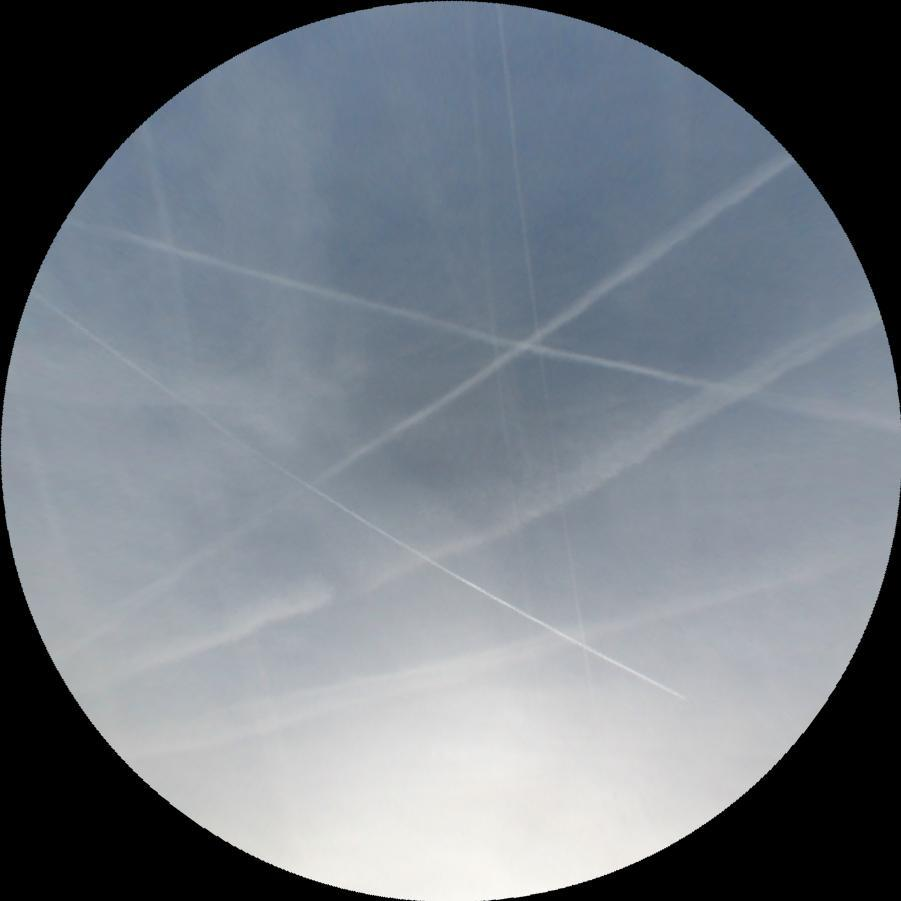contrail old: (46, 148, 795, 670), (59, 211, 901, 441), (454, 0, 544, 689)
contrail veryold: (113, 292, 893, 718), (135, 561, 818, 759), (112, 116, 288, 764)
contrail young: (20, 290, 688, 718), (493, 2, 590, 730)
